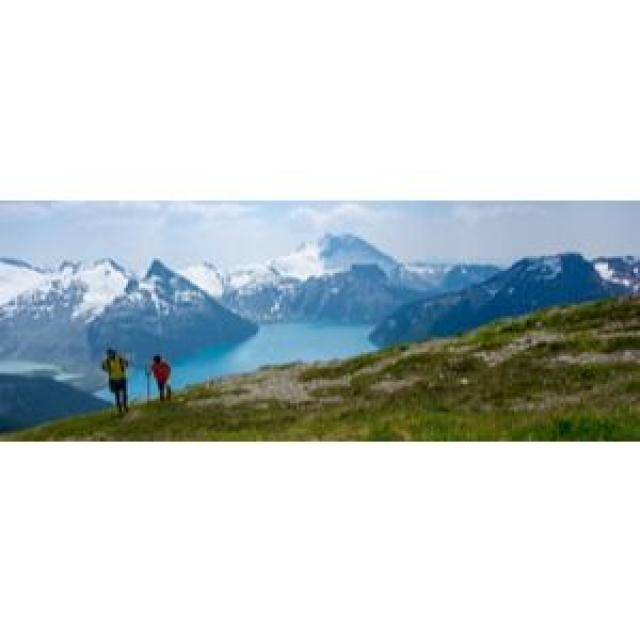nonfall: (86, 343, 144, 420), (149, 342, 175, 404)
